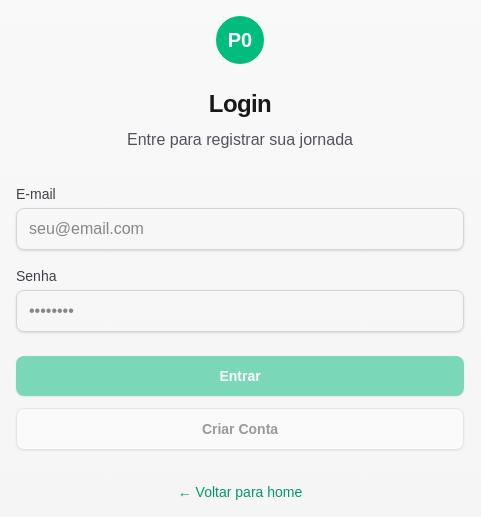
Test: Login page › enables login button when email and password are filled
Type "user@example.com" into the field labelled "E-mail". click: (240, 229)
box: [16, 208, 464, 250]
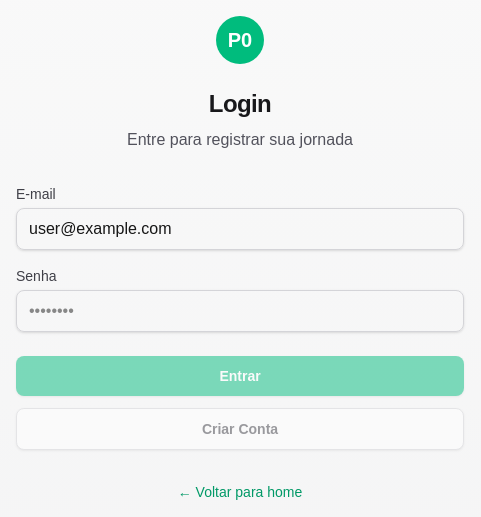
Type "password123" into the password field labelled "Senha". click: (240, 311)
box: [16, 290, 464, 332]
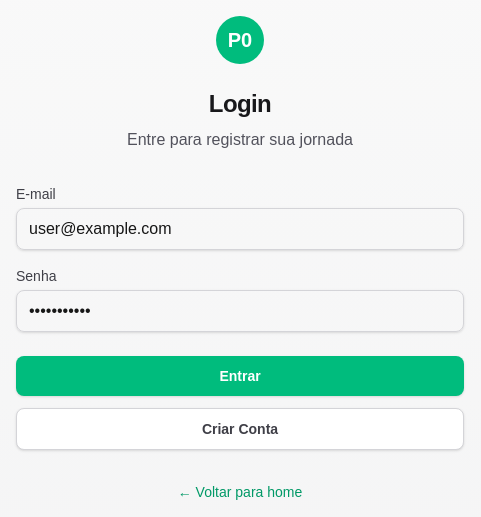
Check: the button "Entrar" is enabled, box [16, 356, 464, 396]
